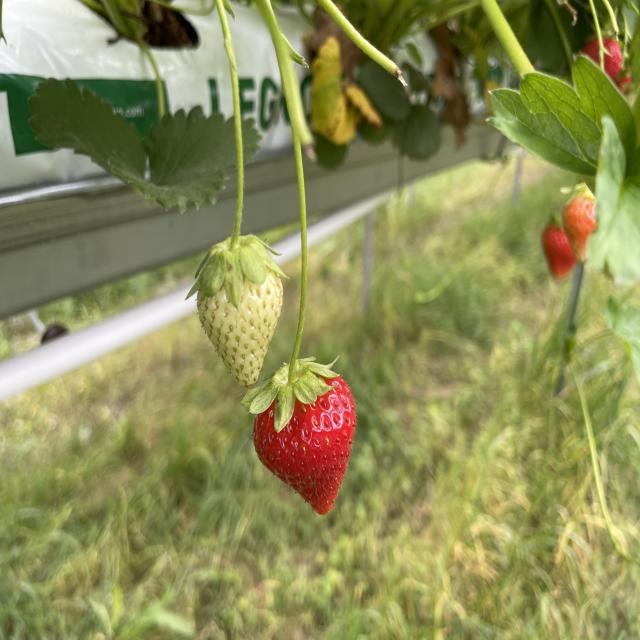stem: (242, 15, 339, 431), (189, 0, 280, 307)
strawberryNR: (198, 272, 282, 386)
strawberryR: (252, 376, 356, 513)
